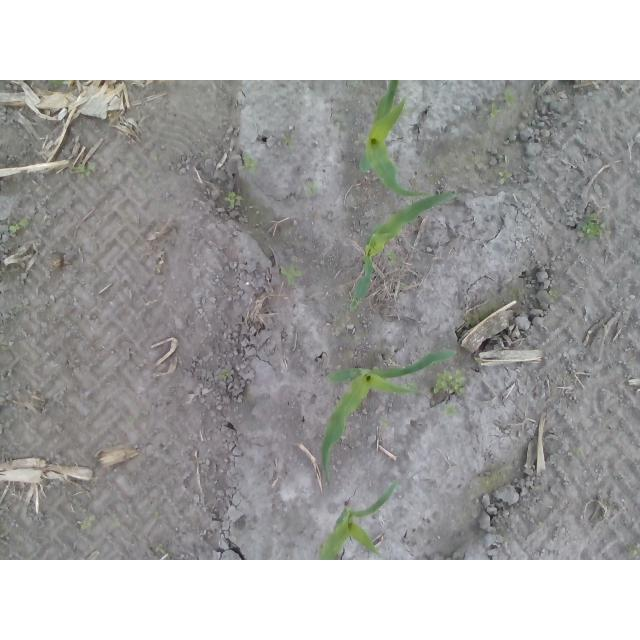Maize: (322, 349, 459, 484), (350, 192, 456, 313), (357, 80, 428, 198), (318, 480, 398, 560)
Weeds: (577, 212, 607, 243), (433, 368, 467, 393), (281, 263, 302, 287), (238, 154, 259, 174), (500, 87, 517, 107), (224, 192, 243, 209), (77, 163, 96, 179), (441, 402, 459, 417), (10, 218, 29, 232), (483, 103, 501, 117), (281, 133, 296, 149), (79, 515, 95, 530), (305, 180, 319, 196), (627, 540, 640, 556), (385, 250, 398, 265), (547, 290, 561, 303), (499, 170, 512, 184), (403, 380, 418, 390), (567, 447, 583, 456), (379, 415, 390, 428), (219, 369, 230, 379), (49, 81, 64, 88), (155, 544, 166, 553), (128, 414, 140, 422), (402, 107, 410, 116), (2, 344, 11, 351), (10, 304, 22, 309), (140, 115, 146, 122), (477, 357, 483, 363), (156, 514, 161, 520)
